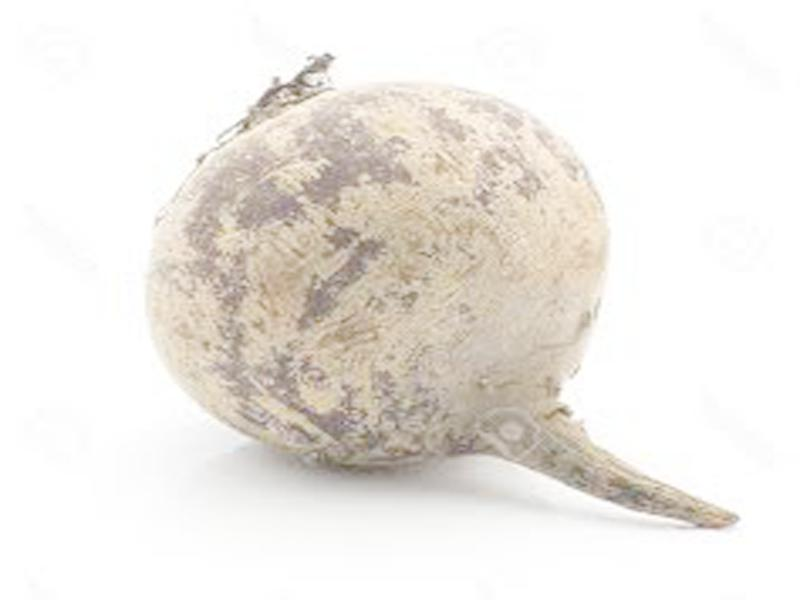Beet: (144, 54, 735, 526)
